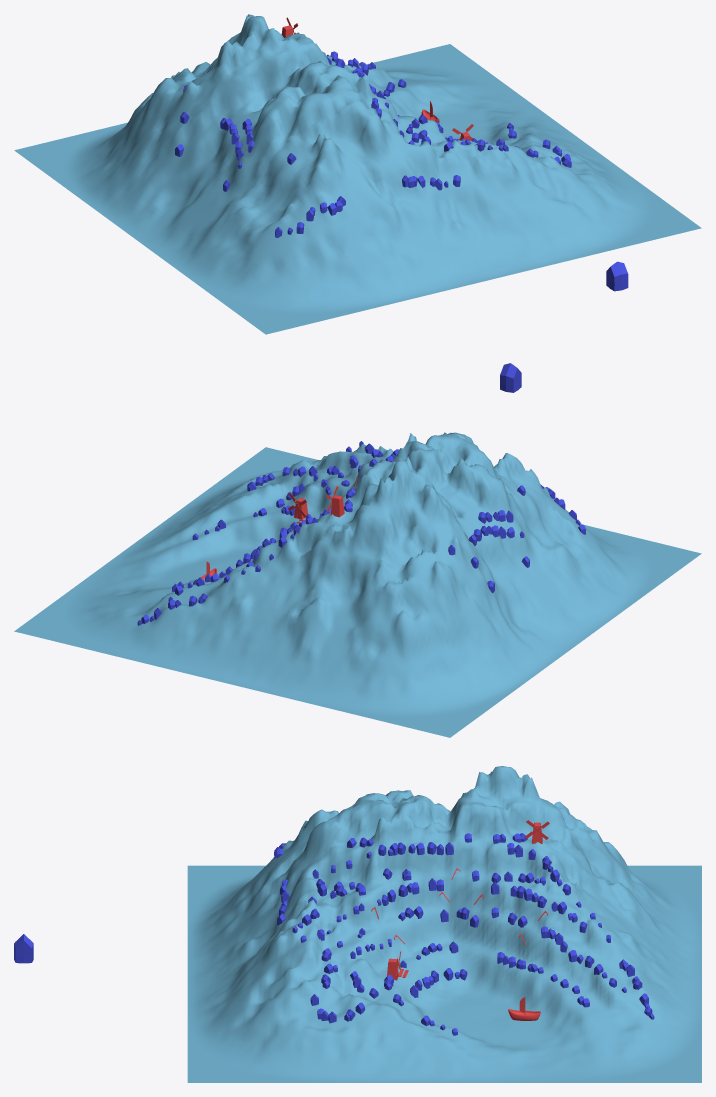
Rendered from oras2.fbx.
The picture shows the model from 3 angles, top to bottom: view 1: azimuth 30°, elevation 25°; view 2: azimuth 150°, elevation 25°; view 3: azimuth 270°, elevation 25°; orthographic projection. The views are drawn at different scales.
Parts seen in each view (by area): view 1: Landscape, Cube; view 2: Landscape; view 3: Landscape, Cube.
Boxes of the visible parts, bbox=[...] form: Landscape: bbox=[14, 14, 701, 334]; Cube: bbox=[606, 261, 628, 291]; Landscape: bbox=[14, 432, 701, 737]; Landscape: bbox=[187, 766, 701, 1082]; Cube: bbox=[14, 934, 33, 963].
Size of the model in its own units: 441 by 170 by 589.
